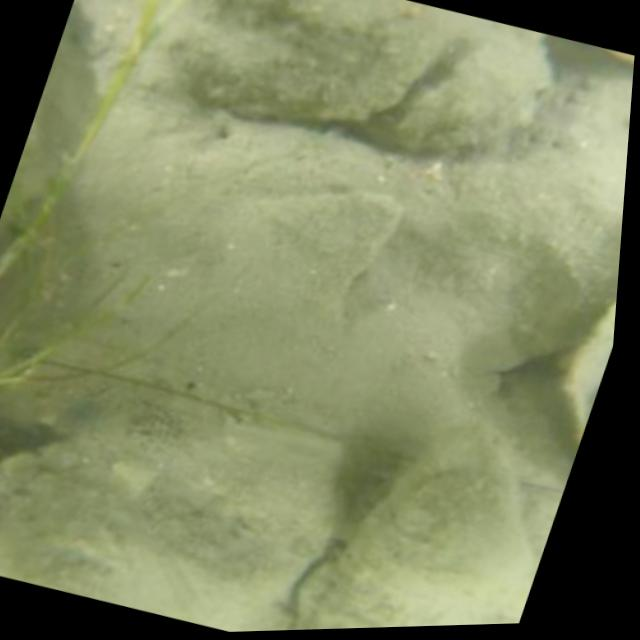Oyster-Closed: (285, 442, 539, 630)
Oyster-Indeterminate: (0, 381, 370, 631), (154, 0, 438, 122), (388, 38, 546, 145), (565, 305, 616, 438)
